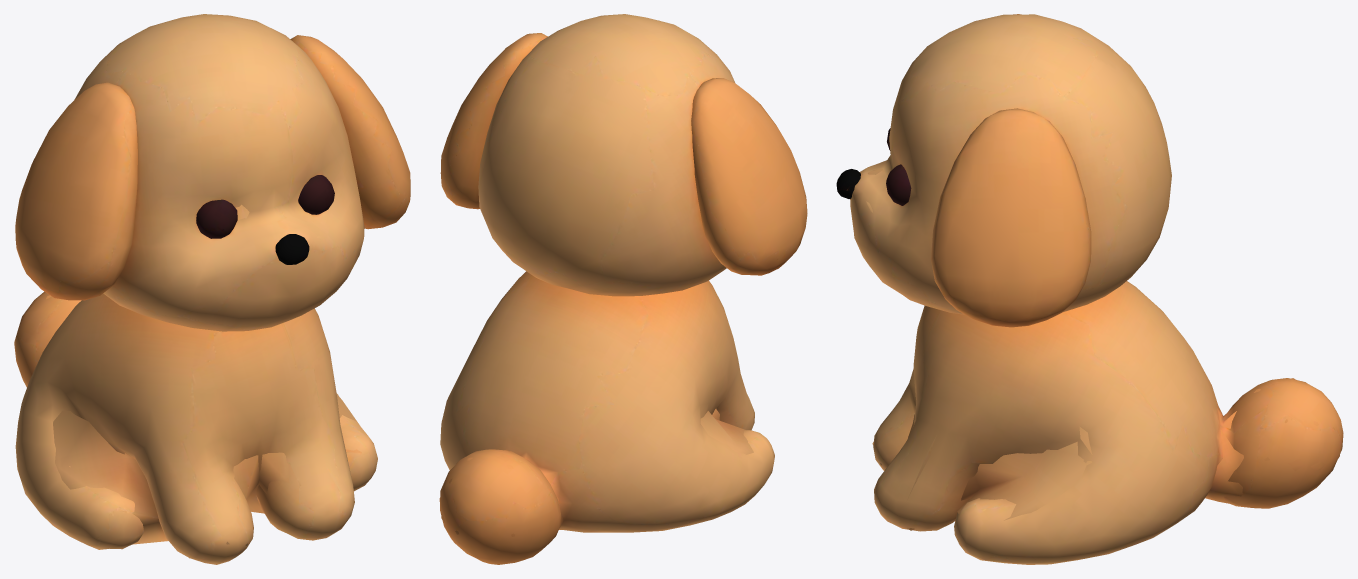
File: pet-dog.glb
The picture shows the model from 3 angles, left to right: view 1: azimuth 30°, elevation 25°; view 2: azimuth 150°, elevation 25°; view 3: azimuth 270°, elevation 25°; orthographic projection. The views are drawn at different scales.
Visible parts, largest first — view 1: geometry_0; view 2: geometry_0; view 3: geometry_0.
Boxes of the visible parts, x1=… form: geometry_0: x1=14, y1=14, x2=410, y2=564; geometry_0: x1=439, y1=14, x2=807, y2=564; geometry_0: x1=836, y1=14, x2=1343, y2=564.
Size of the model in its own units: 0.7922 by 1 by 0.9711.
Materials: 1 (1 with a texture image).
